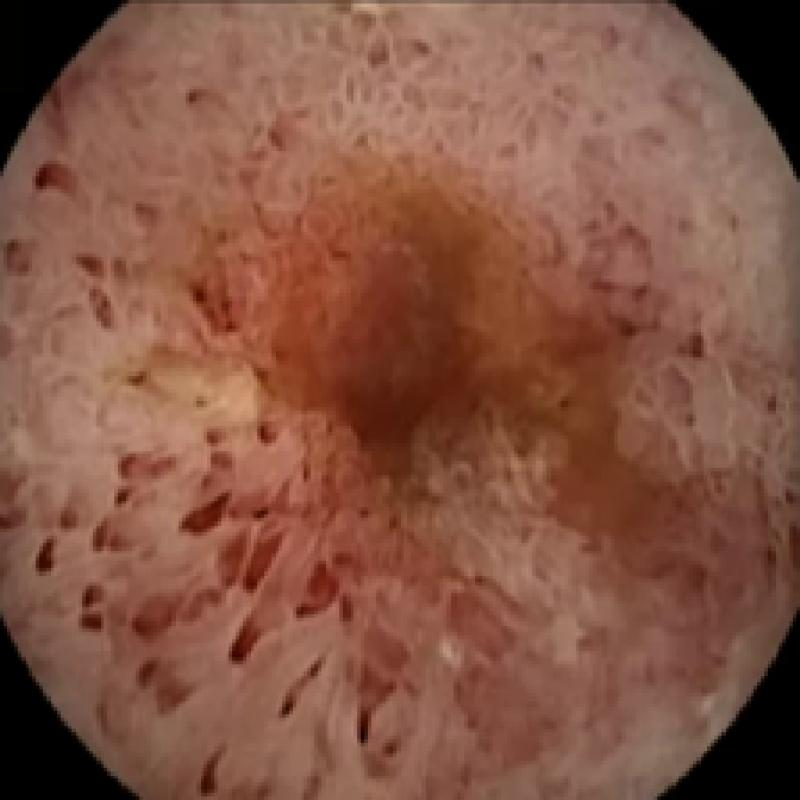bleeding: (71, 196, 628, 722)
